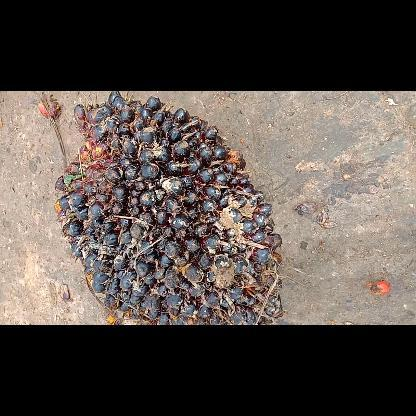TBS mentah: (52, 90, 284, 324)
